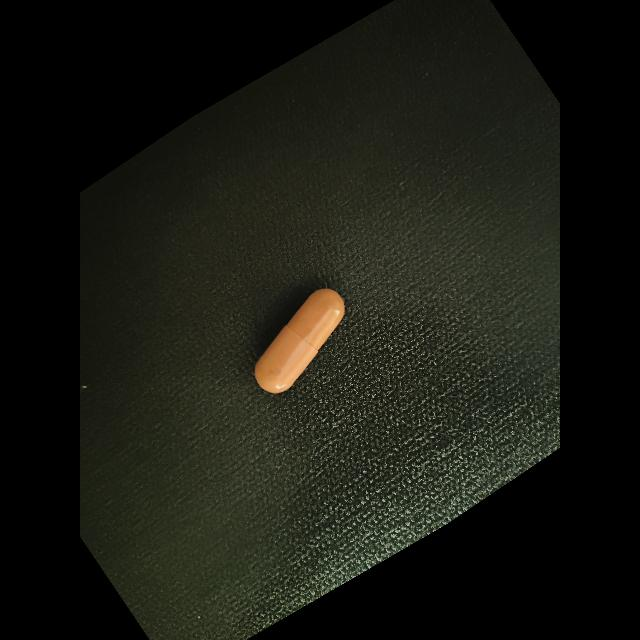Intact Capsule: (255, 289, 345, 393)
